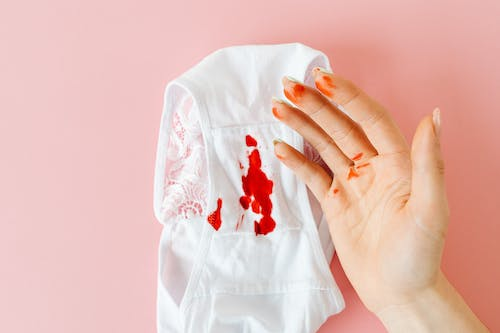blood: (270, 67, 372, 199), (205, 133, 277, 238)
